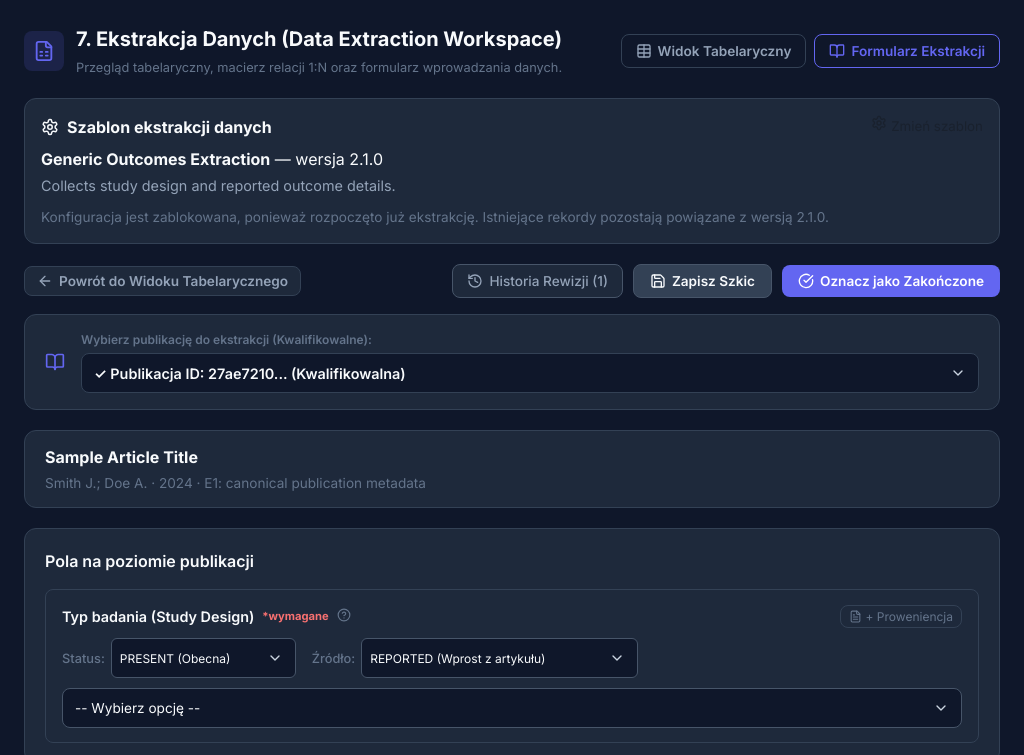
Scenario: Data Extraction Workspace GUI (Phase 9.5 & 9.6) › D. Mark Complete sends completion intent and displays COMPLETE when backend accepts
This screenshot has width=1024, height=755.
Expected: the heading "7. Ekstrakcja Danych (Data Extraction Workspace)" is shown, [76, 24, 562, 54]
Click the button "Oznacz jako Zakończone" at (891, 281), box [782, 265, 1000, 297]
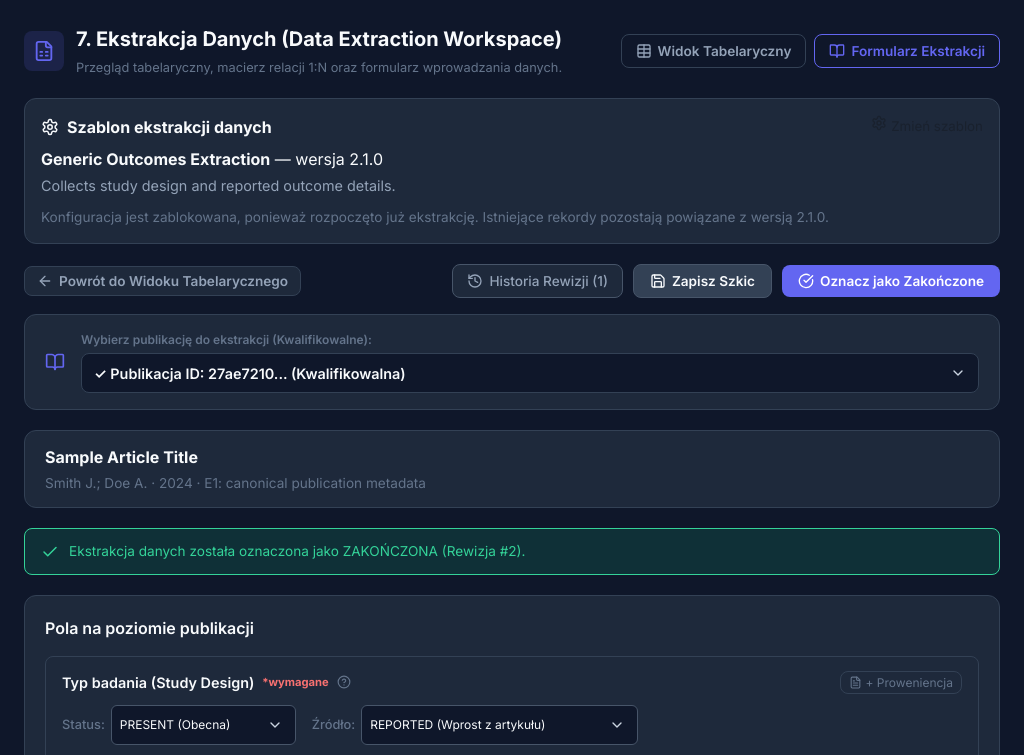
Expected: the text "Ekstrakcja danych została oznaczona jako ZAKOŃCZONA" is shown, [69, 543, 525, 559]
